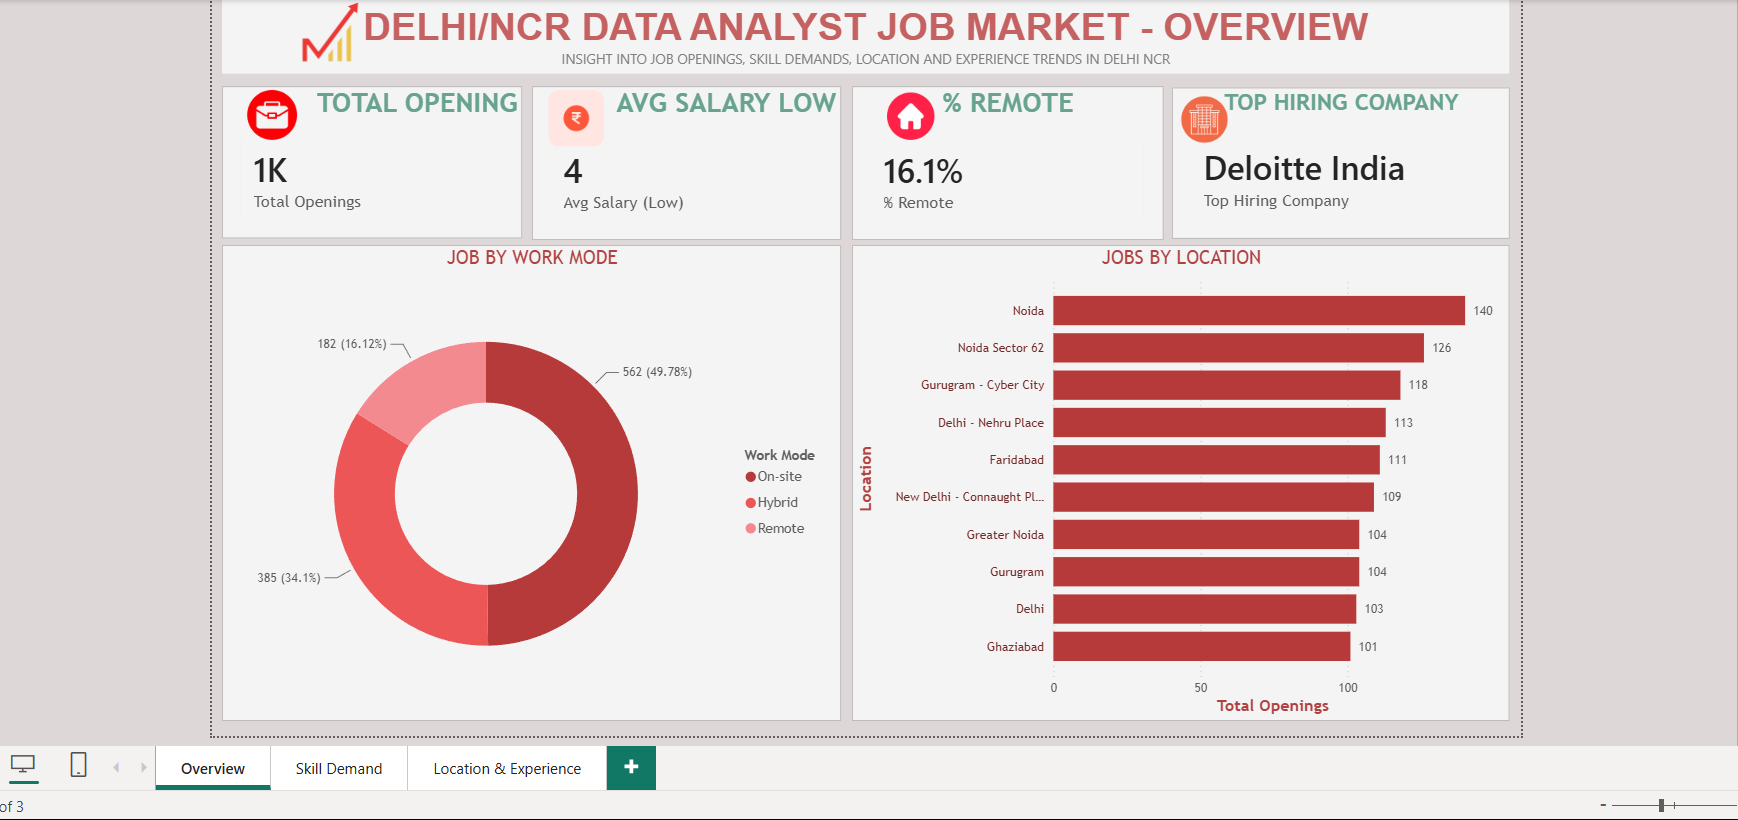

The page's visual inventory and layout, read from the dashboard file:
{"tool":"powerbi","page":{"name":"Overview","canvas":[1280,720],"ordinal":0},"visuals":[{"type":"cardVisual","title":"TOTAL OPENING","fields":{"Data":["Job Postings.Total Openings"]},"box":[9.8,84.4,293.5,149.2],"z":0},{"type":"textbox","box":[9.8,0,1259.5,72.1],"z":1000},{"type":"cardVisual","title":"AVG SALARY LOW","fields":{"Data":["Job Postings.Avg Salary (Low)"]},"box":[313,84.4,302,150.4],"z":2000},{"type":"cardVisual","title":"% REMOTE","fields":{"Data":["Job Postings.% Remote"]},"box":[626.1,84.4,304.5,150.4],"z":3000},{"type":"cardVisual","title":"TOP HIRING COMPANY","fields":{"Data":["Job Postings.Top Hiring Company"]},"box":[939.1,85.6,330.2,148],"z":4000},{"type":"donutChart","title":"JOB BY WORK MODE","fields":{"Category":["Job Postings.Work Mode"],"Y":["Job Postings.Total Openings"]},"box":[9.8,239.7,605.3,465.9],"z":5000},{"type":"clusteredBarChart","title":"JOBS BY LOCATION","fields":{"Category":["Job Postings.Location"],"Y":["Job Postings.Total Openings"]},"box":[626.1,239.7,643.2,465.9],"z":6000},{"type":"image","box":[31.8,0,168.8,62.4],"z":7000},{"type":"image","box":[23.2,88,70.9,48.9],"z":8000},{"type":"image","box":[322.8,88,67.3,55],"z":9000},{"type":"image","box":[639.5,90.5,88,46.5],"z":10000},{"type":"image","box":[947.7,90.5,46.5,52.6],"z":11000}]}

Visuals, with their boxes on the page's 1280x720 design canvas (x1, y1, x2, y2). These are canvas units, not pixel positions in the 1738x820 screenshot, which may show the page scaled, cropped or inside an application window:
"TOTAL OPENING" cardVisual: left=10, top=84, right=303, bottom=234
textbox: left=10, top=0, right=1269, bottom=72
"AVG SALARY LOW" cardVisual: left=313, top=84, right=615, bottom=235
"% REMOTE" cardVisual: left=626, top=84, right=931, bottom=235
"TOP HIRING COMPANY" cardVisual: left=939, top=86, right=1269, bottom=234
"JOB BY WORK MODE" donutChart: left=10, top=240, right=615, bottom=706
"JOBS BY LOCATION" clusteredBarChart: left=626, top=240, right=1269, bottom=706
image: left=32, top=0, right=201, bottom=62
image: left=23, top=88, right=94, bottom=137
image: left=323, top=88, right=390, bottom=143
image: left=640, top=90, right=728, bottom=137
image: left=948, top=90, right=994, bottom=143
